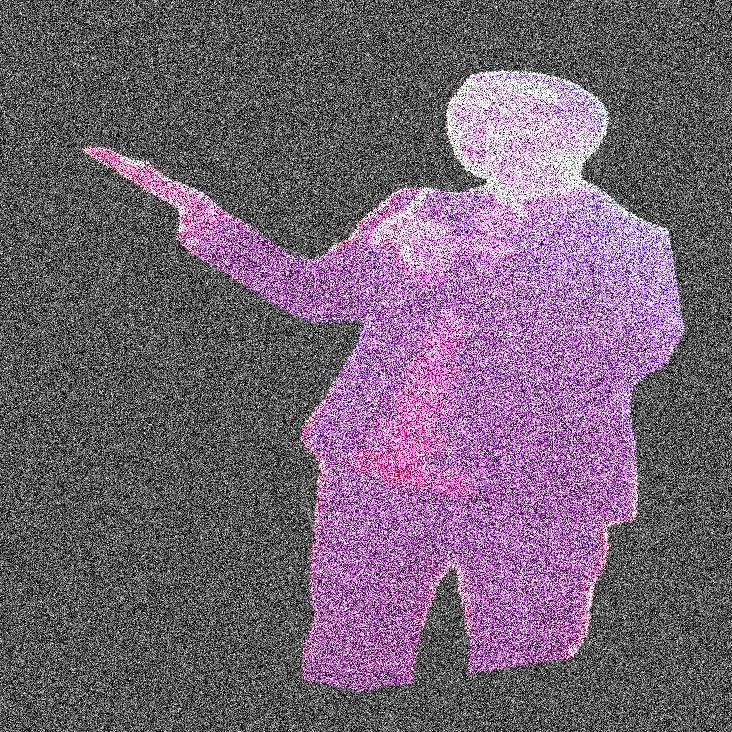Pessoa: (400, 0, 612, 731)
